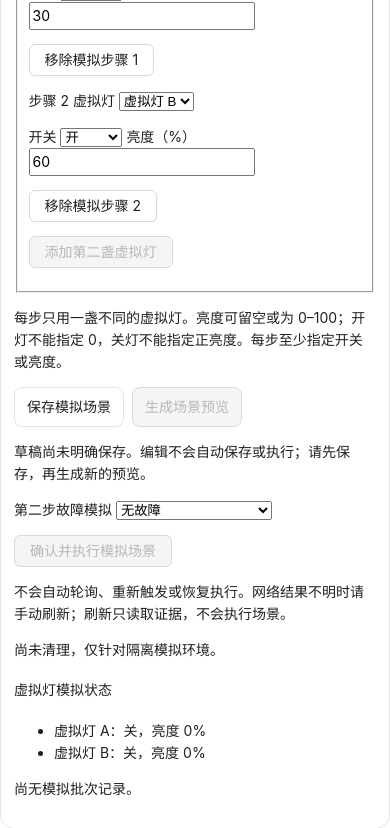
Scenario: isolated simulated scene sandbox › confirms and posts only a strict execute object for none
(page scrolled)
Click the button "保存模拟场景". click: (69, 407)
box: [14,387,124,427]
(page scrolled)
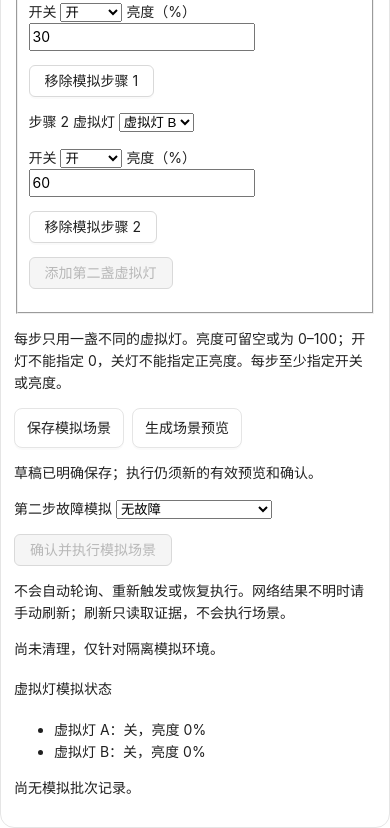
Expected: the text "草稿已明确保存；执行仍须新的有效预览和确认。" is shown, [14,462,376,484]
Click the button "生成场景预览". click: (187, 428)
box: [132,408,242,448]
(page scrolled)
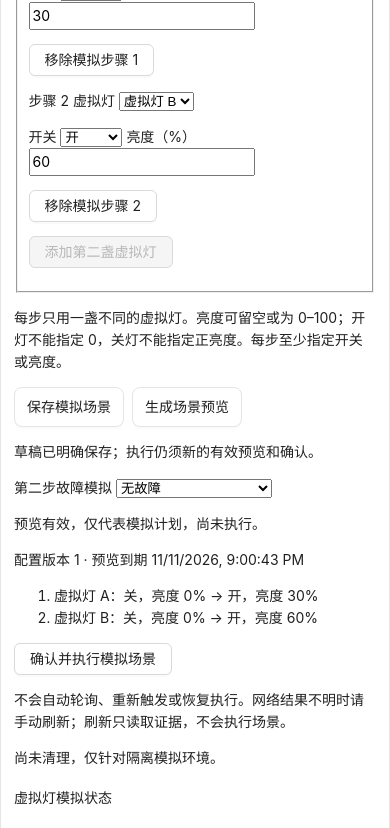
Expected: the text "预览有效，仅代表模拟计划，尚未执行。" is shown, [14,515,266,532]
Select "无故障" in the dropdown labelled "第二步故障模拟". click: (194, 488)
box: [116,479,272,498]
Click the button "确认并执行模拟场景". click: (93, 659)
box: [14,643,172,675]
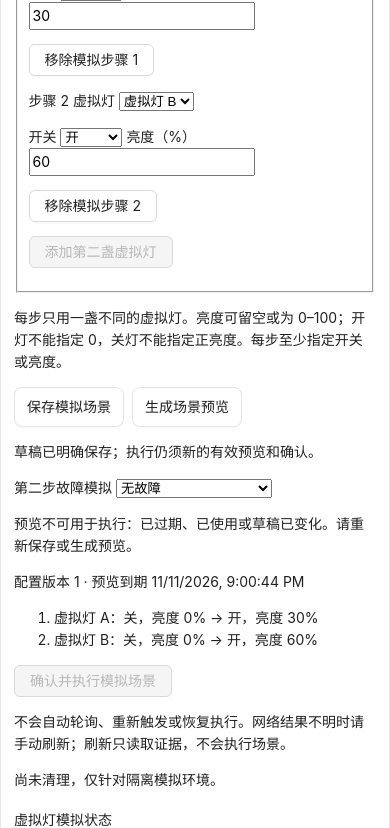
Expected: the button "确认并执行模拟场景" is disabled, [14,665,172,697]
